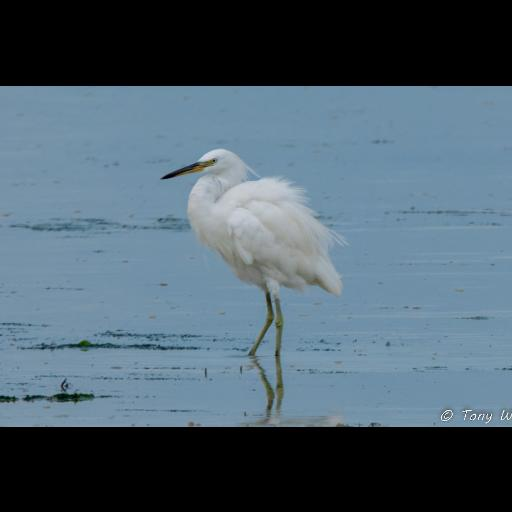chinese_egret: (159, 148, 349, 356)
